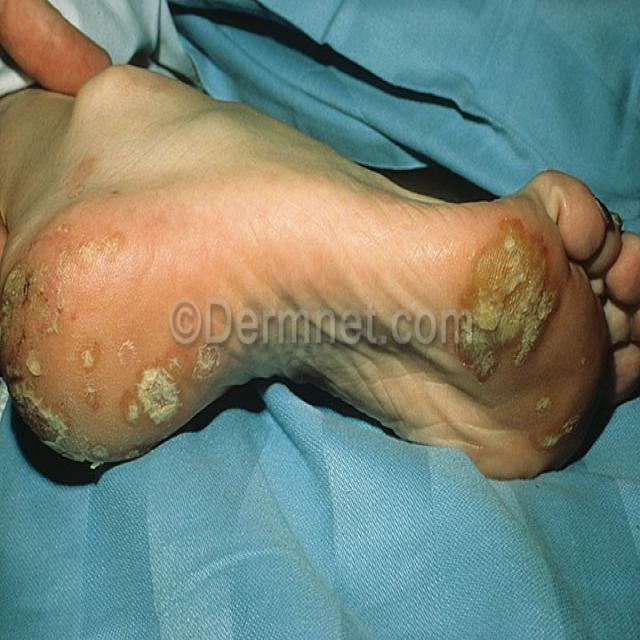Shingles: (6, 234, 218, 441), (458, 223, 561, 379)
